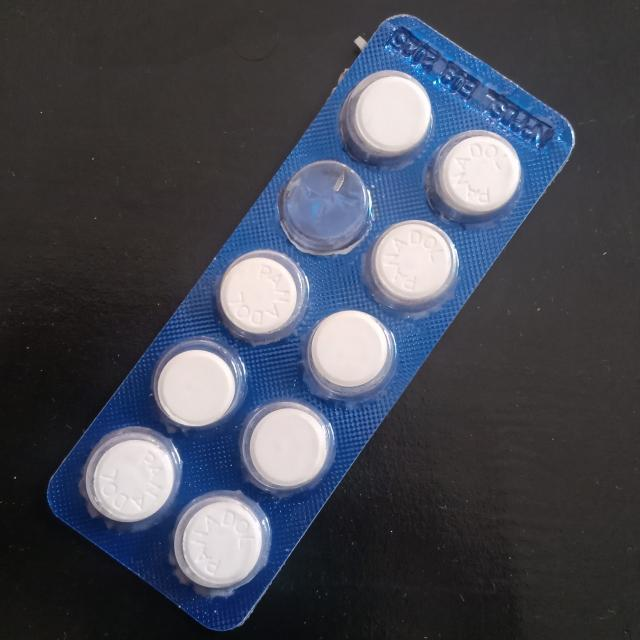defect: (276, 156, 374, 258)
